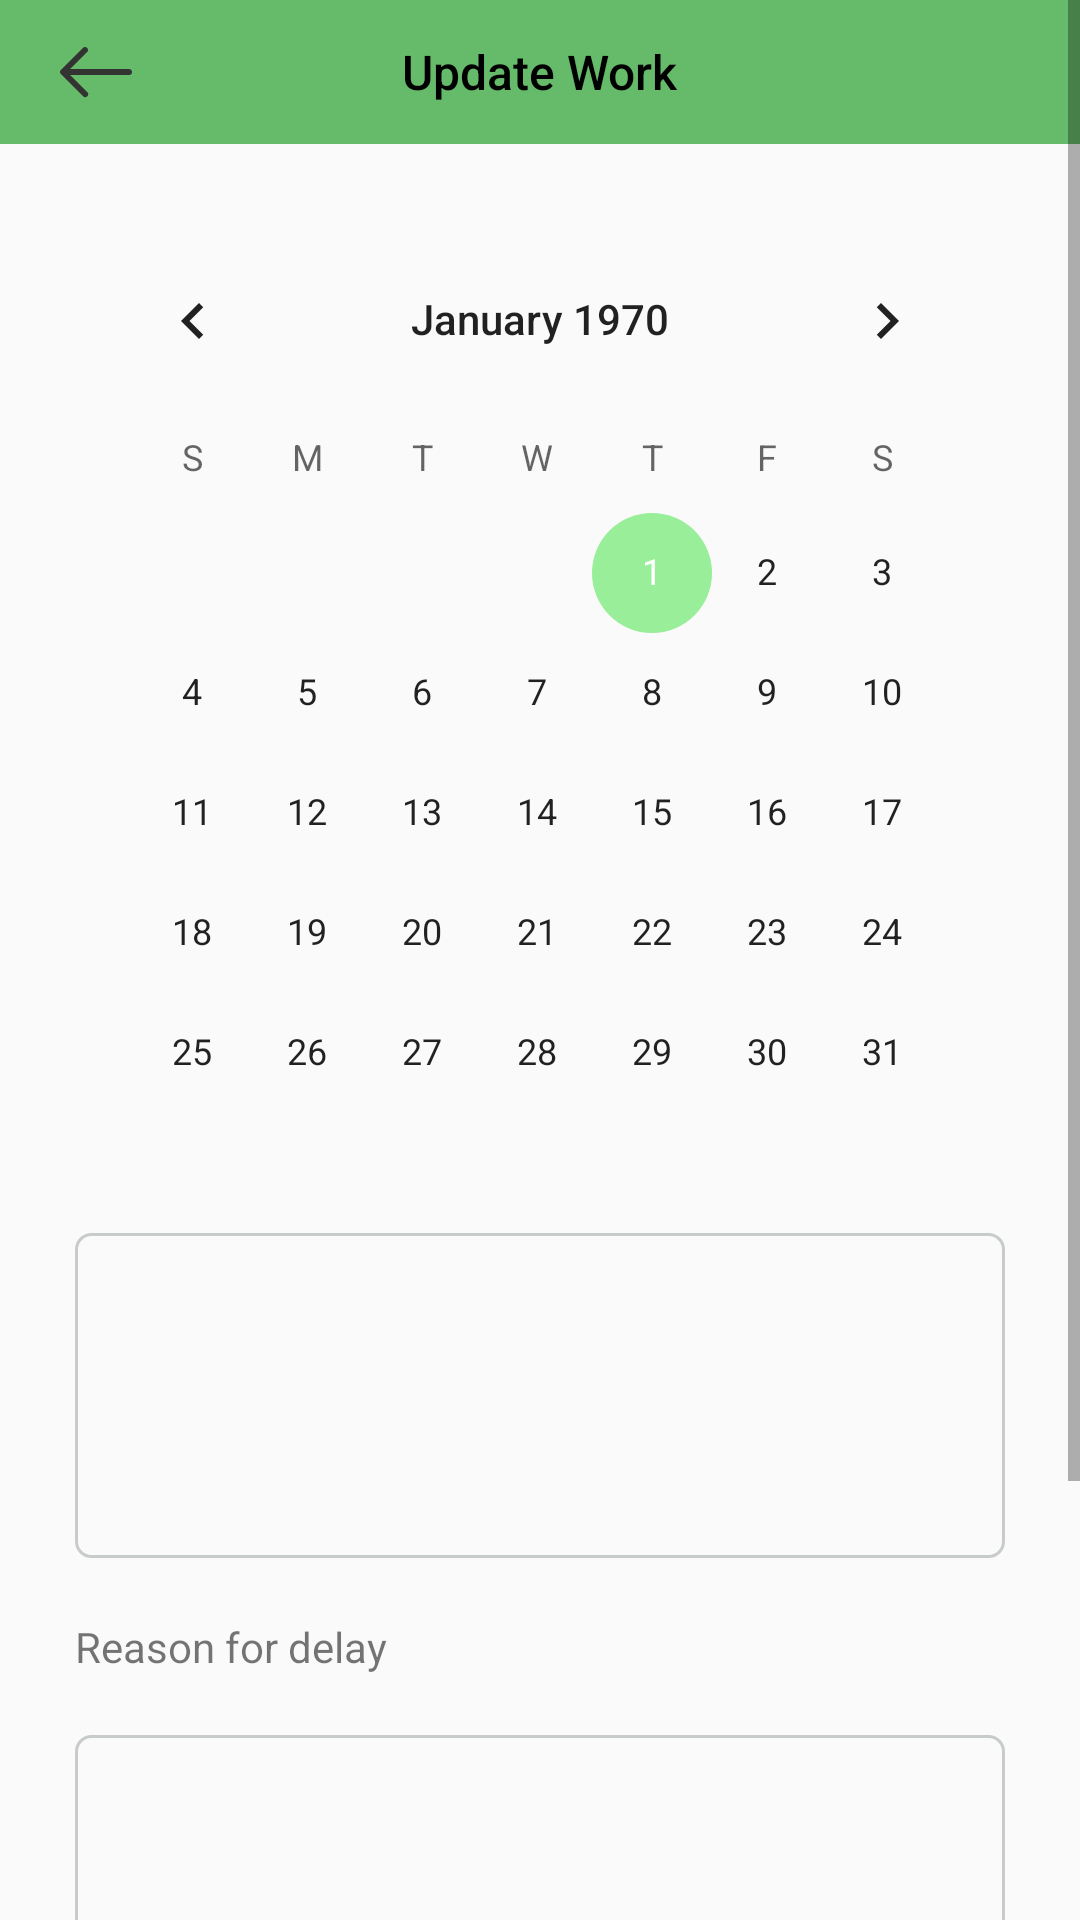

Screen size 1080x1920. Icon name, then its box in pixels as (x1, y1, x2, y2):
back arrow: (60, 47, 132, 98)
